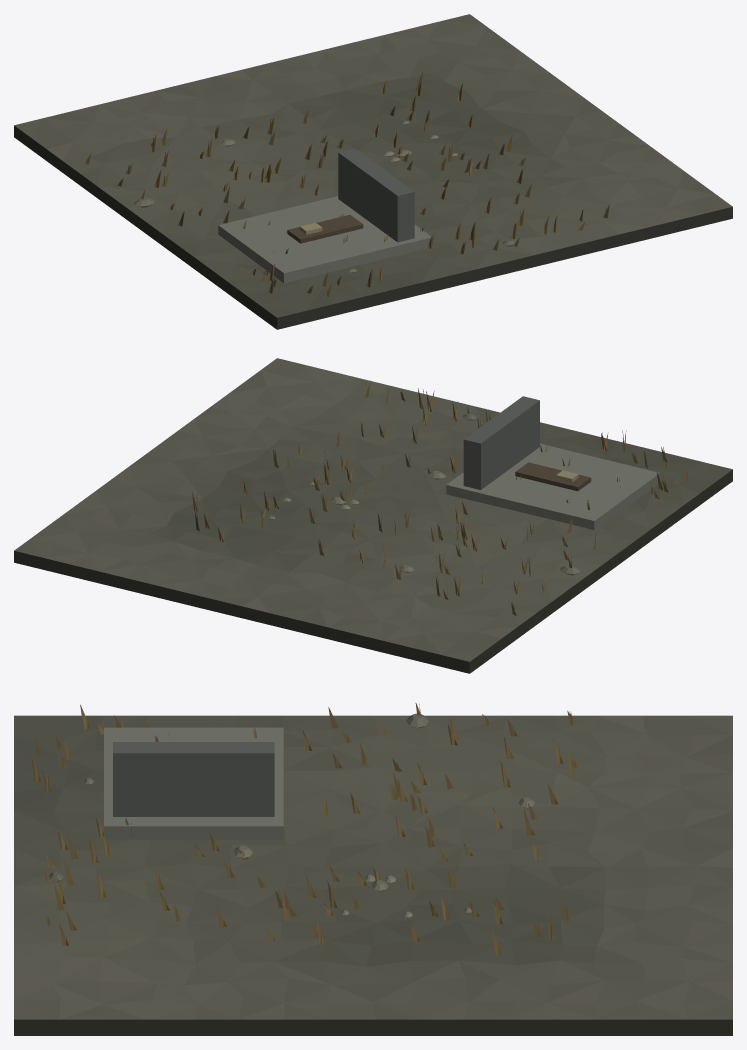
The model's file is CHUNK_ruined_monastery__refuge_records__01.glb.
3 views of the same model, one above another, from view 1: azimuth 30°, elevation 25°; view 2: azimuth 150°, elevation 25°; view 3: azimuth 270°, elevation 25° (orthographic). The views are drawn at different scales.
Parts seen in each view (by area): view 1: CHUNK_ruined_monastery__refuge_records__01; view 2: CHUNK_ruined_monastery__refuge_records__01; view 3: CHUNK_ruined_monastery__refuge_records__01.
Boxes of the visible parts, x1,y1,x2,y2 form: CHUNK_ruined_monastery__refuge_records__01: (14, 14, 732, 329); CHUNK_ruined_monastery__refuge_records__01: (14, 358, 732, 673); CHUNK_ruined_monastery__refuge_records__01: (14, 703, 732, 1035).
Bounding box in the file's own units: 8 × 1.16 × 8.
